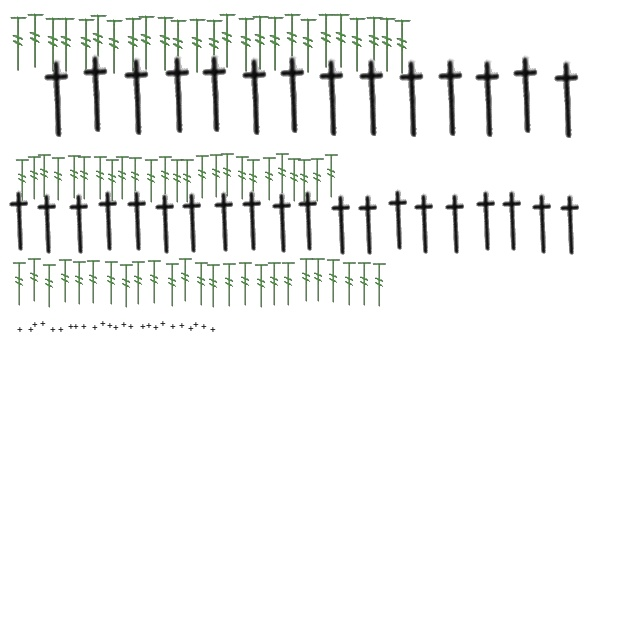double: (32, 322, 38, 328), (68, 324, 74, 330), (73, 324, 79, 330), (81, 324, 87, 330), (121, 322, 127, 328), (128, 324, 134, 330), (140, 324, 146, 330), (170, 324, 176, 330), (188, 326, 194, 332), (193, 322, 199, 328), (201, 324, 207, 330), (17, 328, 23, 332), (28, 328, 34, 332), (40, 322, 46, 326), (50, 328, 56, 332), (58, 328, 64, 332), (92, 326, 98, 330), (100, 322, 106, 326), (107, 324, 113, 328), (113, 326, 119, 330), (146, 324, 152, 328), (153, 326, 159, 330), (160, 322, 166, 326), (179, 324, 185, 328), (210, 328, 216, 332)
enseble_chain: (35, 59, 81, 139), (74, 54, 120, 134), (115, 57, 161, 137), (156, 55, 202, 135), (193, 54, 239, 134), (233, 57, 279, 137), (271, 55, 317, 135), (310, 58, 356, 138), (350, 58, 396, 138), (390, 59, 436, 139), (429, 58, 475, 138), (466, 59, 512, 139), (504, 55, 550, 135), (545, 60, 591, 140), (2, 190, 38, 252), (30, 193, 66, 255), (62, 193, 98, 255), (91, 190, 127, 252), (120, 190, 156, 252), (148, 193, 184, 255), (175, 192, 211, 254), (207, 191, 243, 253), (235, 190, 271, 252), (265, 192, 301, 254), (291, 190, 327, 252), (324, 194, 360, 256), (351, 194, 387, 256), (381, 189, 417, 251), (407, 193, 443, 255), (438, 193, 474, 255), (469, 190, 505, 252), (495, 190, 531, 252), (525, 193, 561, 255), (553, 194, 589, 256)
fan: (8, 14, 30, 74), (56, 15, 78, 75), (76, 16, 98, 76), (88, 12, 110, 72), (104, 17, 126, 77), (136, 13, 158, 73), (168, 17, 190, 77), (204, 17, 226, 77), (236, 15, 258, 75), (250, 13, 272, 73), (282, 11, 304, 71), (298, 16, 320, 76), (316, 11, 338, 71), (364, 14, 386, 74), (392, 17, 414, 77), (26, 11, 46, 71), (44, 15, 64, 75), (124, 15, 144, 75), (156, 14, 176, 74), (188, 16, 208, 76), (218, 11, 238, 71), (266, 14, 286, 74), (332, 11, 352, 71), (348, 15, 368, 75), (378, 15, 398, 75), (14, 157, 32, 205), (26, 154, 44, 202), (36, 152, 54, 200), (50, 155, 68, 203), (66, 153, 84, 201), (76, 154, 94, 202), (92, 154, 110, 202), (104, 157, 122, 205), (114, 154, 132, 202), (194, 153, 212, 201), (208, 152, 226, 200), (234, 154, 252, 202), (274, 151, 292, 199), (286, 156, 304, 204), (296, 157, 314, 205), (26, 256, 44, 304), (118, 262, 136, 310), (130, 259, 148, 307), (146, 258, 164, 306), (164, 261, 182, 309), (266, 260, 284, 308), (280, 260, 298, 308), (298, 256, 316, 304), (310, 256, 328, 304), (356, 260, 374, 308), (128, 155, 144, 203), (144, 157, 160, 205), (158, 154, 174, 202), (170, 157, 186, 205), (180, 157, 196, 205), (220, 151, 236, 199), (246, 157, 262, 205), (262, 155, 278, 203), (310, 156, 326, 204), (324, 152, 340, 200), (12, 260, 28, 308), (42, 262, 58, 310), (58, 257, 74, 305), (72, 259, 88, 307), (86, 258, 102, 306), (104, 259, 120, 307), (178, 256, 194, 304), (194, 260, 210, 308), (206, 262, 222, 310), (222, 261, 238, 309), (238, 260, 254, 308), (254, 262, 270, 310), (326, 257, 342, 305), (342, 260, 358, 308), (372, 261, 388, 309)
